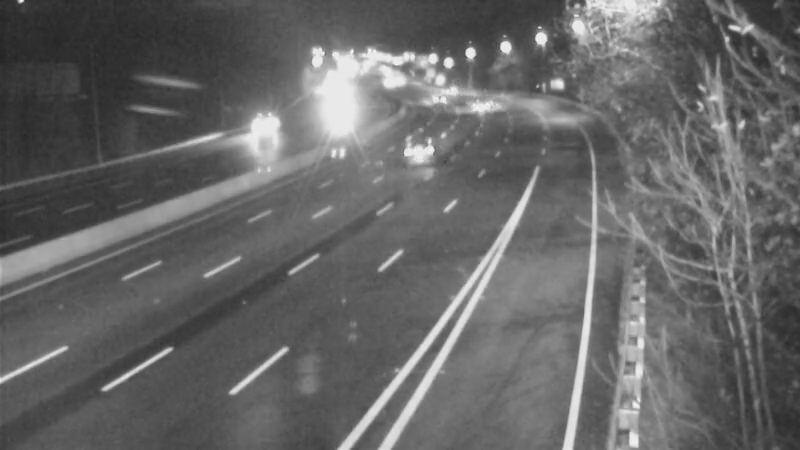vehicle: (421, 61, 471, 111), (409, 76, 459, 126), (453, 79, 503, 129), (392, 124, 442, 174), (237, 95, 287, 145), (316, 90, 366, 140)
